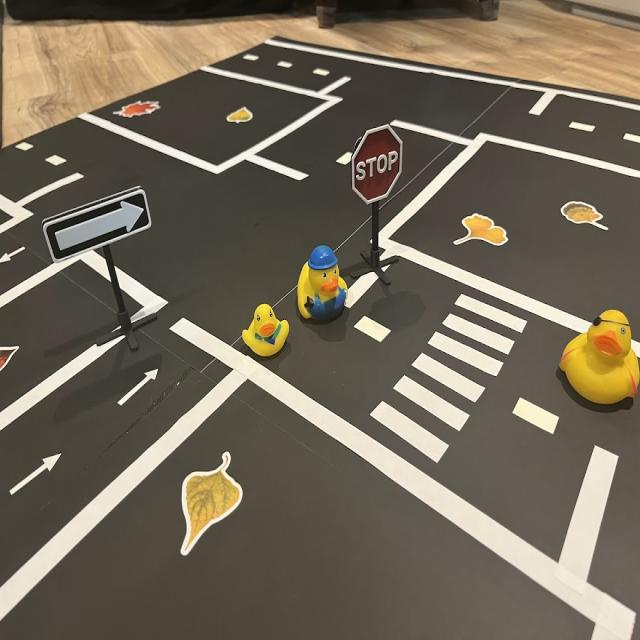duck_regular: (240, 303, 293, 358)
duck_specialty: (558, 304, 640, 416), (296, 238, 351, 329)
road_crosswalk: (363, 287, 535, 477)
road_oneway: (9, 449, 65, 502), (116, 363, 165, 416), (1, 240, 32, 270)
sign_oneway_right: (42, 183, 154, 267)
sign_stop: (355, 125, 404, 204)
